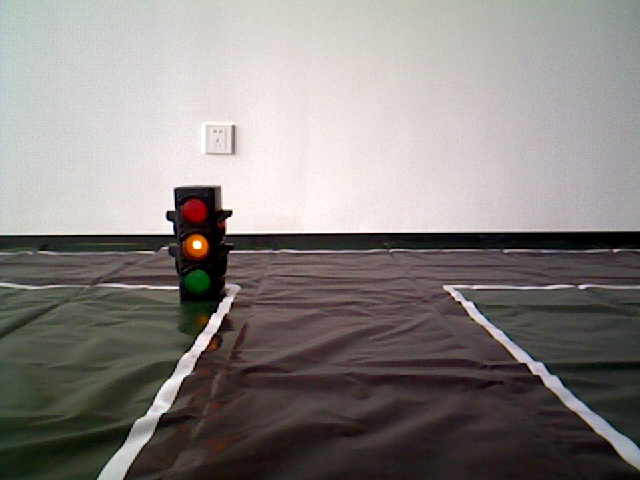yellow: (171, 180, 228, 304)
